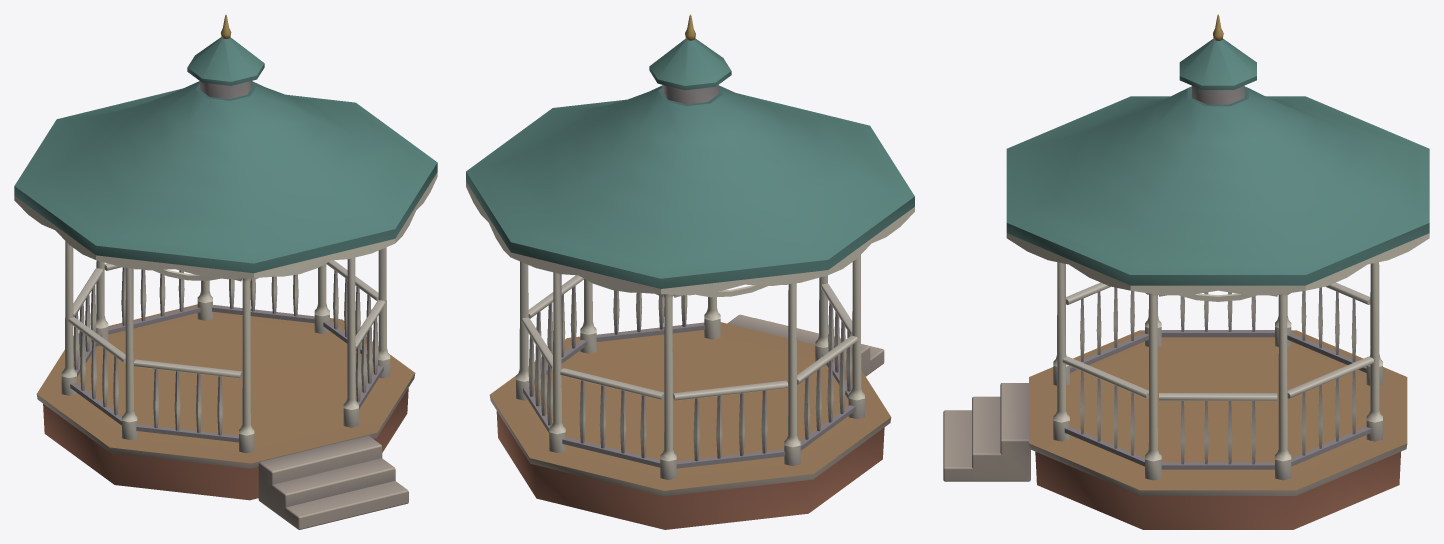
File: Gazebo.fbx
3 renders of one model, left to right at view 1: azimuth 30°, elevation 25°; view 2: azimuth 150°, elevation 25°; view 3: azimuth 270°, elevation 25°, orthographic. The views are drawn at different scales.
Parts seen in each view (by area): view 1: Gazebo; view 2: Gazebo; view 3: Gazebo.
Boxes of the visible parts, x1,y1,x2,y2 form: Gazebo: [14, 14, 437, 529]; Gazebo: [466, 14, 914, 529]; Gazebo: [943, 14, 1429, 529].
Bounding box in the file's own units: 4.44 × 5.09 × 5.11.
